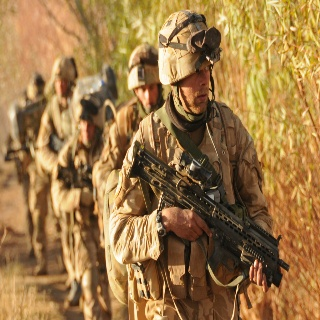rifle: (124, 140, 290, 288)
